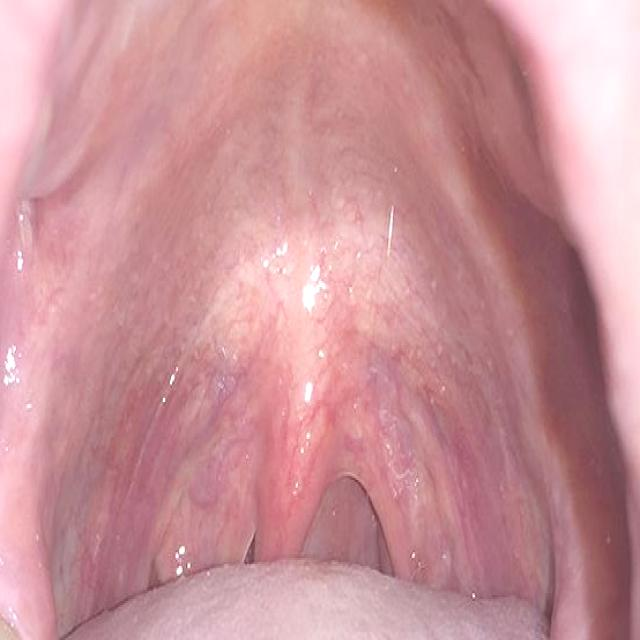Non Pharyngitis: (77, 329, 276, 592), (352, 337, 538, 578)
